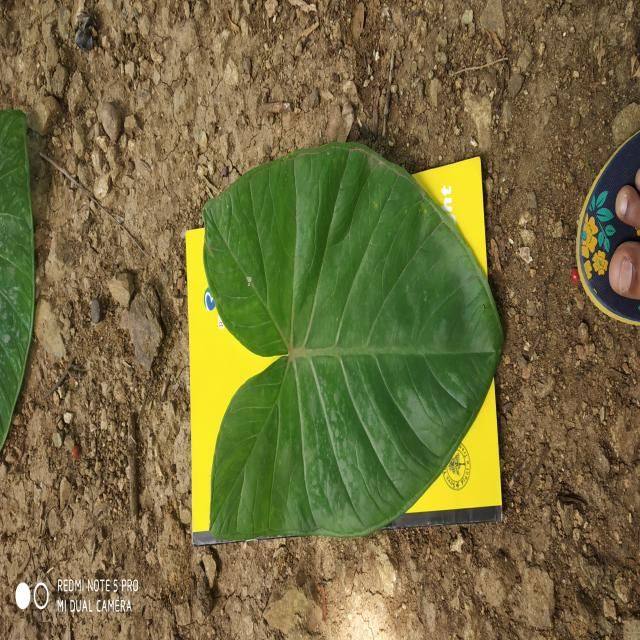taro: (186, 142, 504, 544), (188, 142, 502, 542)
